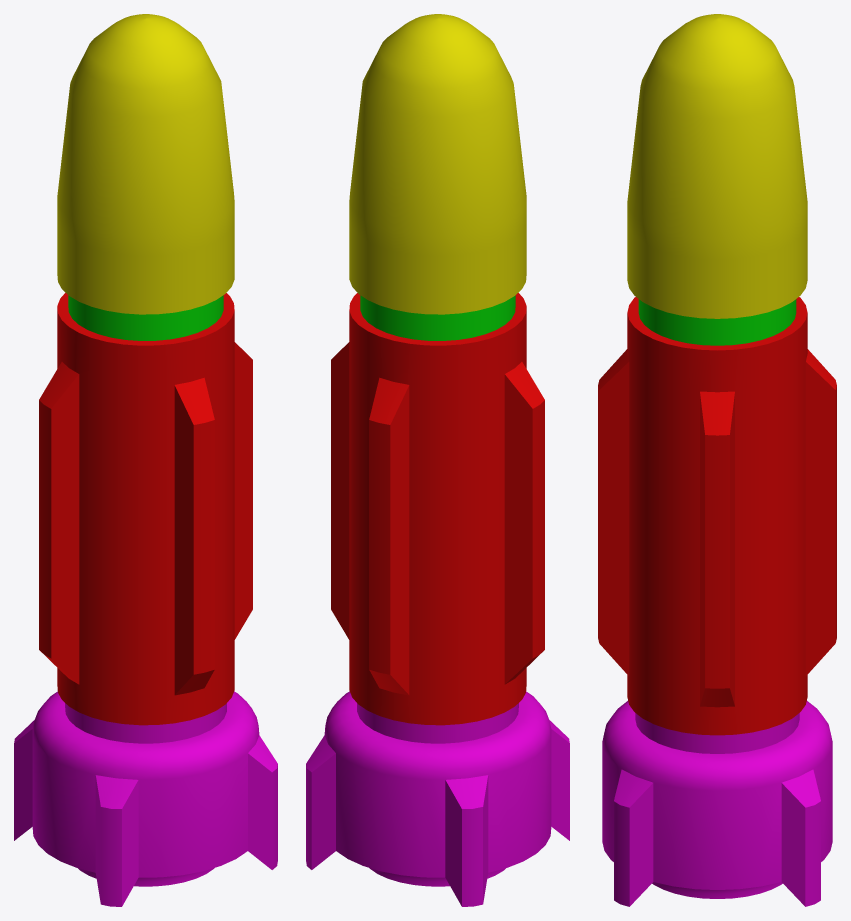
The model's file is Missile.fbx.
3 renders of one model, left to right at view 1: azimuth 30°, elevation 25°; view 2: azimuth 150°, elevation 25°; view 3: azimuth 270°, elevation 25°, orthographic.
Visible parts, largest first — view 1: Missile; view 2: Missile; view 3: Missile.
Part boxes in pixels (left/top/right/bottom): Missile: left=14, top=14, right=277, bottom=906; Missile: left=306, top=14, right=569, bottom=906; Missile: left=598, top=14, right=836, bottom=906.
Bounding box in the file's own units: 265 × 1039 × 265.
